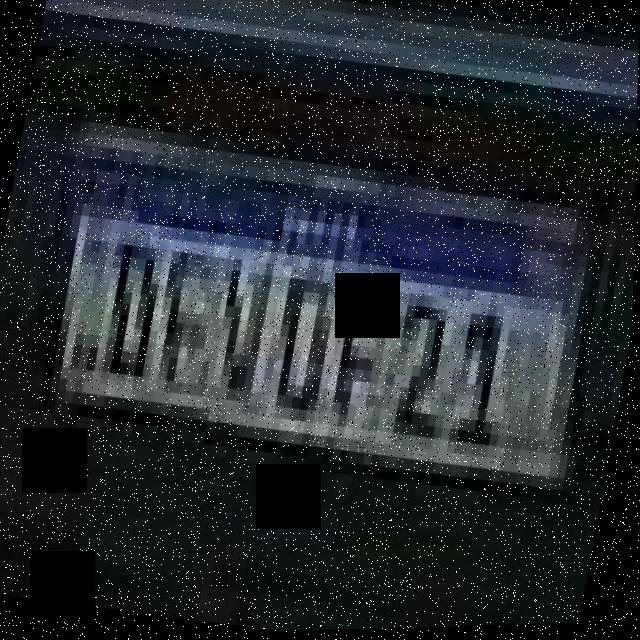0: (264, 265, 346, 432)
1: (446, 305, 525, 464)
D: (99, 238, 170, 386)
F: (324, 272, 405, 442), (147, 241, 227, 400)
V: (208, 255, 284, 409)
